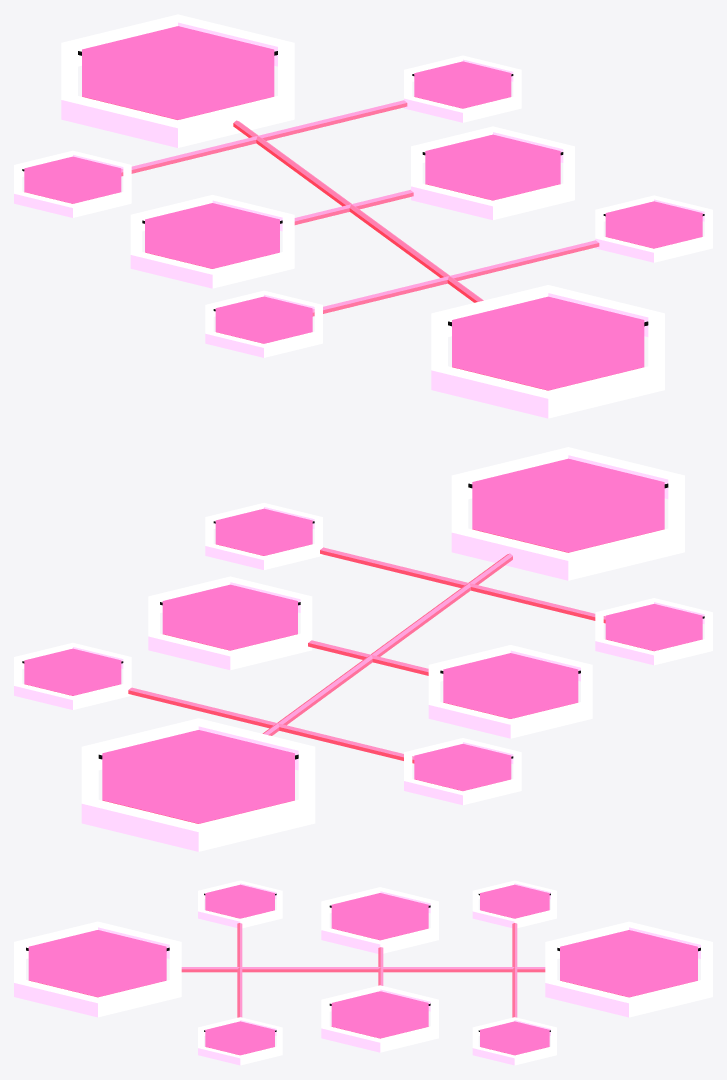
The model's file is Trampolin New.fbx.
3 renders of one model, top to bottom at view 1: azimuth 30°, elevation 25°; view 2: azimuth 150°, elevation 25°; view 3: azimuth 270°, elevation 25°, orthographic. The views are drawn at different scales.
Visible parts, largest first — view 1: polySurface9, polySurface10, polySurface2, polySurface52, polySurface60, polySurface35, polySurface18, polySurface26, polySurface43, polySurface42; view 2: polySurface9, polySurface10, polySurface2, polySurface52, polySurface60, polySurface26, polySurface18, polySurface35, polySurface43, polySurface42; view 3: polySurface9, polySurface10, polySurface2, polySurface52, polySurface60, polySurface26, polySurface35, polySurface43, polySurface18, polySurface42.
Boxes of the visible parts, <box> form: polySurface9: <box>14,14,712,418</box>; polySurface10: <box>452,296,644,390</box>; polySurface2: <box>82,26,274,119</box>; polySurface52: <box>425,134,560,200</box>; polySurface60: <box>145,203,279,268</box>; polySurface35: <box>414,61,511,108</box>; polySurface18: <box>215,296,312,343</box>; polySurface26: <box>605,201,702,248</box>; polySurface43: <box>24,156,121,203</box>; polySurface42: <box>404,55,521,122</box>; polySurface9: <box>81,447,712,851</box>; polySurface10: <box>472,458,664,552</box>; polySurface2: <box>102,730,294,823</box>; polySurface52: <box>162,584,297,650</box>; polySurface60: <box>443,653,578,718</box>; polySurface26: <box>215,508,312,555</box>; polySurface18: <box>605,604,702,651</box>; polySurface35: <box>24,648,121,695</box>; polySurface43: <box>414,744,511,790</box>; polySurface42: <box>14,642,131,709</box>; polySurface9: <box>14,880,712,1065</box>; polySurface10: <box>28,930,166,997</box>; polySurface2: <box>560,930,697,997</box>; polySurface52: <box>331,991,428,1038</box>; polySurface60: <box>331,893,428,940</box>; polySurface26: <box>205,1021,274,1055</box>; polySurface35: <box>480,1021,549,1055</box>; polySurface43: <box>480,884,549,918</box>; polySurface18: <box>205,884,274,918</box>; polySurface42: <box>472,1017,556,1065</box>.
Bounding box in the file's own units: 58.65 × 2.21 × 97.38.
